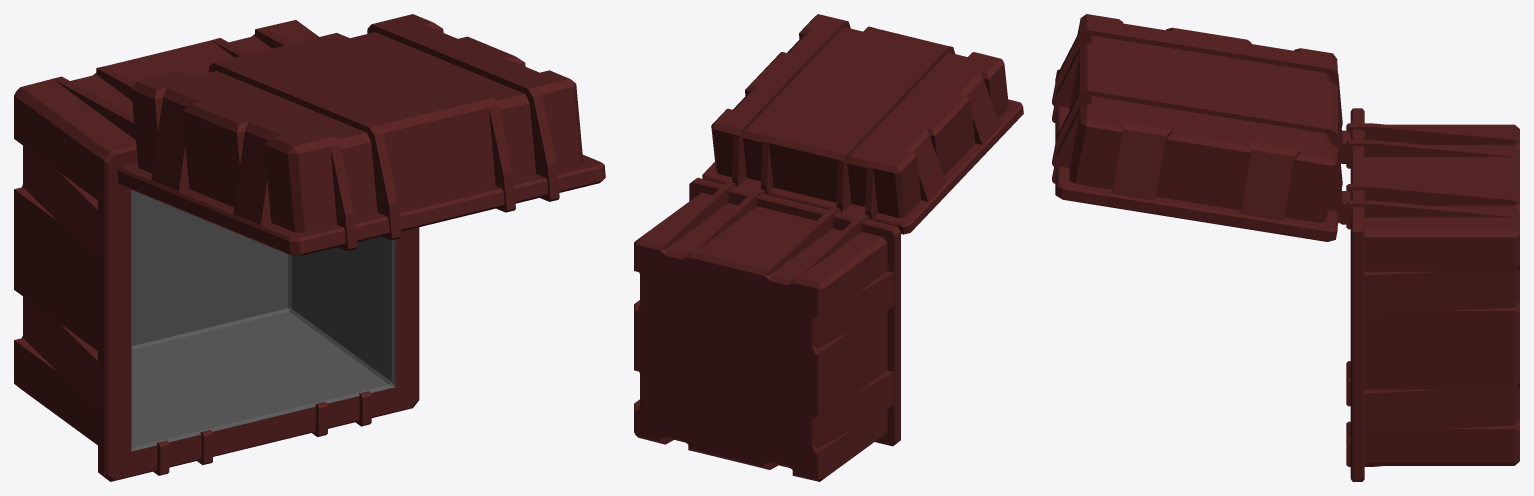
The model's file is AttachmentBoxBullets.glb.
The picture shows the model from 3 angles, left to right: view 1: azimuth 30°, elevation 25°; view 2: azimuth 150°, elevation 25°; view 3: azimuth 270°, elevation 25°; orthographic projection. The views are drawn at different scales.
Visible parts, largest first — view 1: AttachmentBoxBullets; view 2: AttachmentBoxBullets; view 3: AttachmentBoxBullets.
Part boxes in pixels (<box>): AttachmentBoxBullets: <box>14,14,605,481</box>; AttachmentBoxBullets: <box>634,14,1023,481</box>; AttachmentBoxBullets: <box>1052,14,1519,481</box>.
Size of the model in its own units: 0.656 by 0.9145 by 1.08.
Materials: 1 (1 with a texture image).
